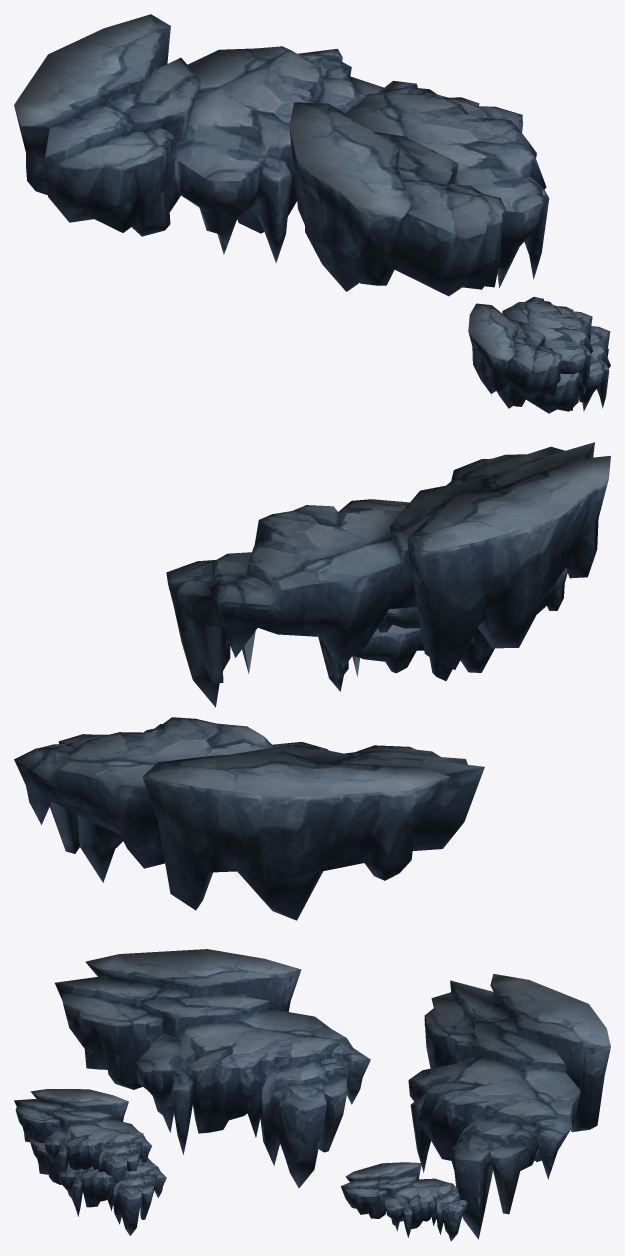
Rendered from Area_13_15.fbx.
3 views of the same model, one above another, from view 1: azimuth 30°, elevation 25°; view 2: azimuth 150°, elevation 25°; view 3: azimuth 270°, elevation 25° (orthographic). The views are drawn at different scales.
Visible parts, largest first — view 1: Area_13_15; view 2: Area_13_15; view 3: Area_13_15.
Boxes of the visible parts, x1=… form: Area_13_15: x1=14, y1=14, x2=610, y2=413; Area_13_15: x1=14, y1=442, x2=610, y2=920; Area_13_15: x1=14, y1=949, x2=610, y2=1241.
Size of the model in its own units: 4113 by 2675 by 7131.
